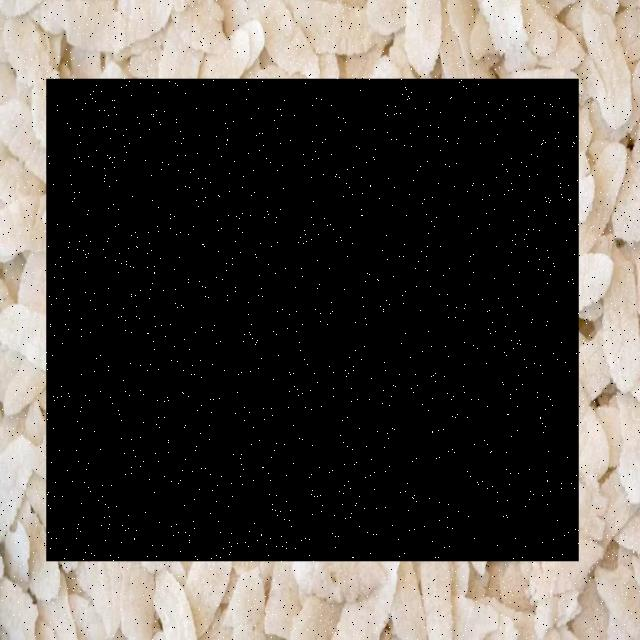Beaten_Rice: (47, 79, 579, 562)
